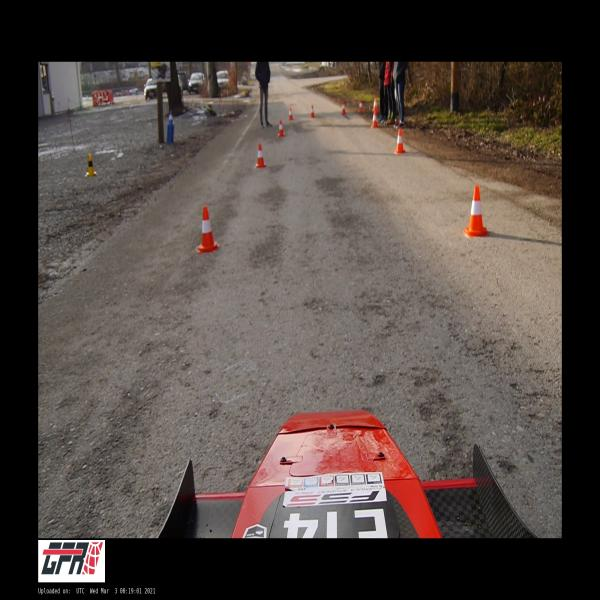blue_cone: (168, 110, 174, 124)
orange_cone: (463, 186, 490, 237), (197, 206, 219, 253), (394, 129, 406, 153), (255, 144, 266, 168), (278, 120, 285, 137), (371, 110, 378, 127), (358, 100, 364, 112), (373, 98, 378, 111), (341, 102, 346, 114), (289, 108, 293, 120), (311, 105, 314, 118)
yellow_cone: (85, 152, 96, 176)
